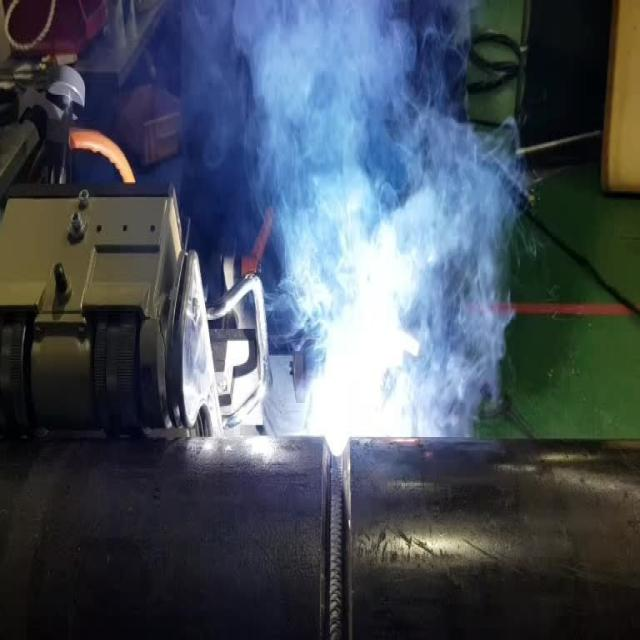welding: (325, 334, 382, 434), (309, 387, 384, 434)
